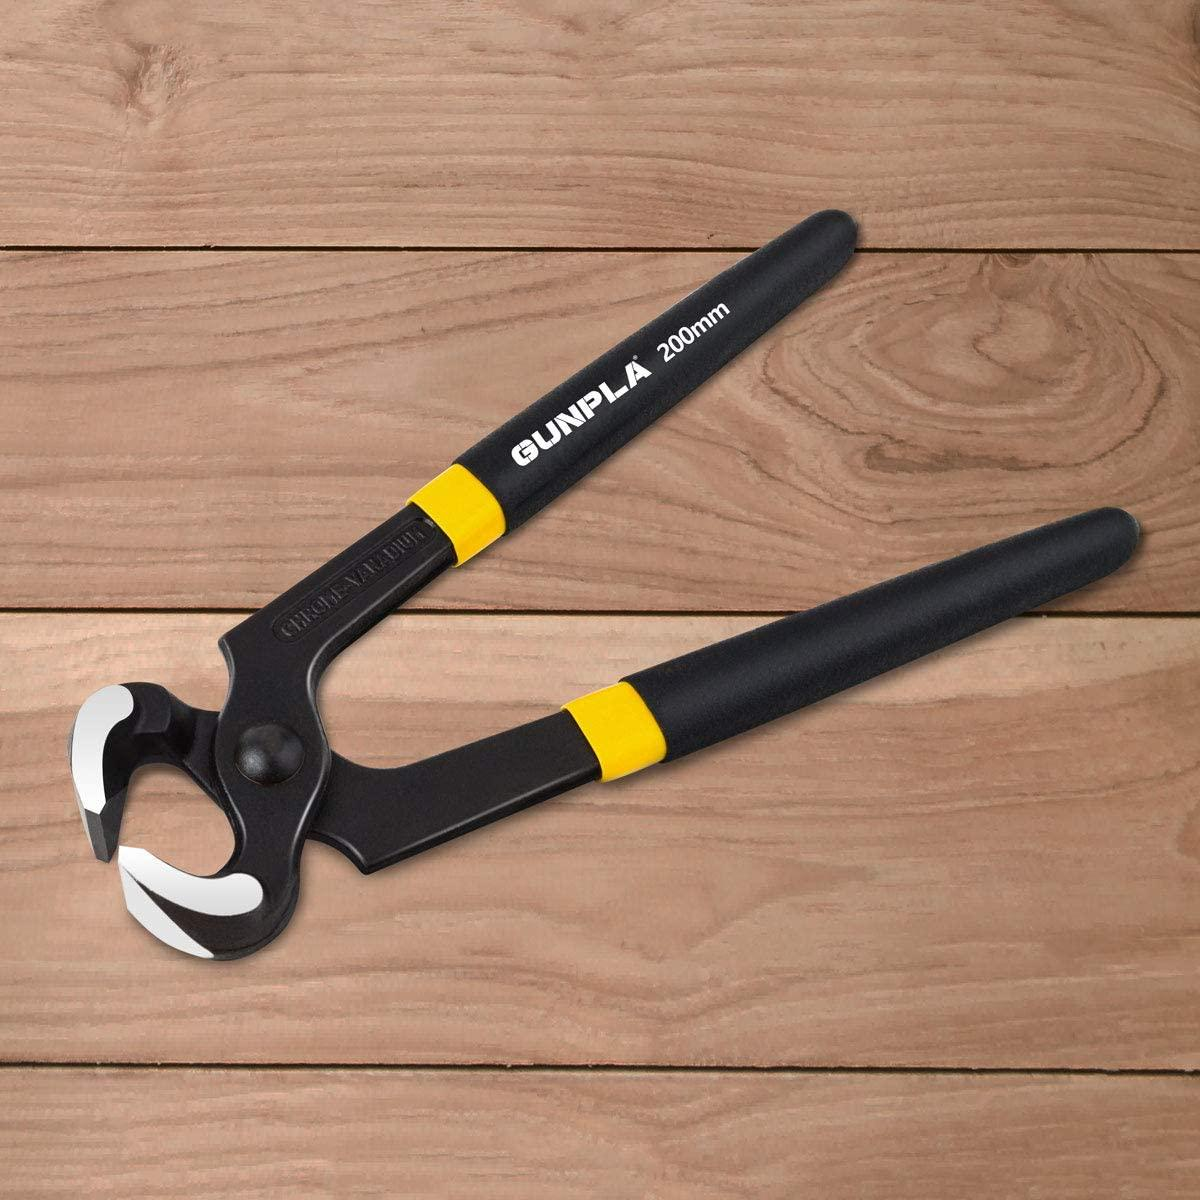Pincers: (68, 193, 1151, 964)
